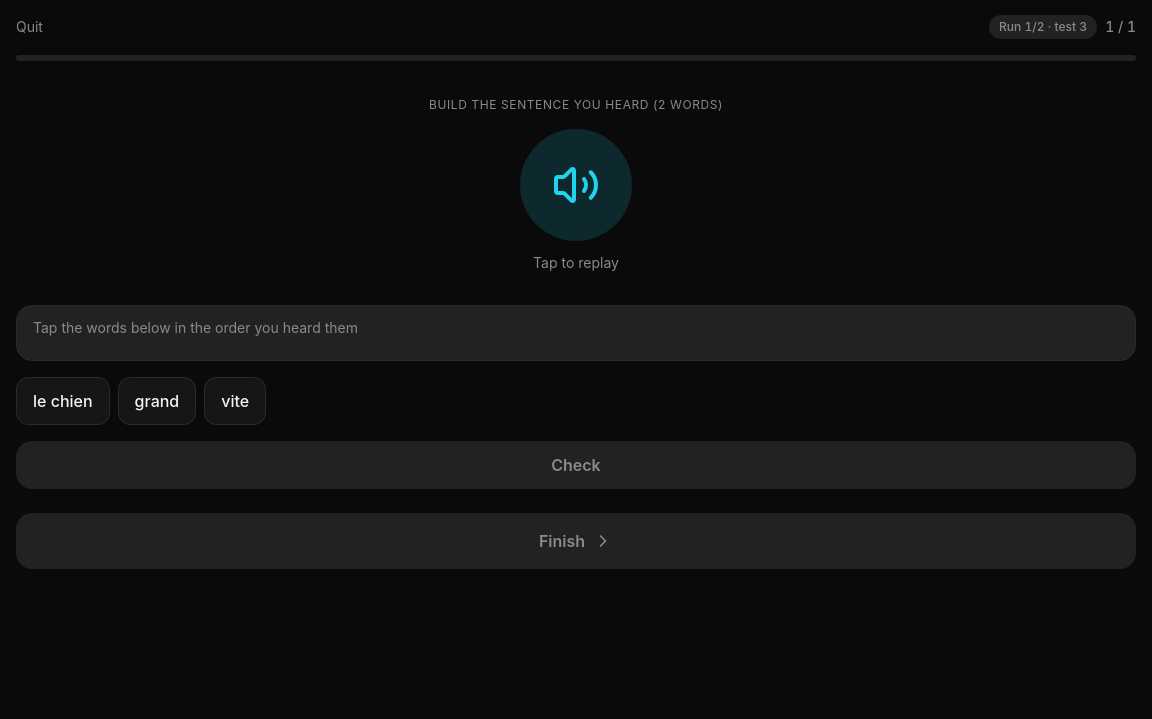
Test case: TestRunner — back-to-back run tally › carries the running total across tests and adds the finished one
Expected: the text "Run 1/2 · test 3" is shown, x1=989 y1=15 x2=1097 y2=39
Click the button "le chien" at (63, 401), box x1=16 y1=377 x2=110 y2=425
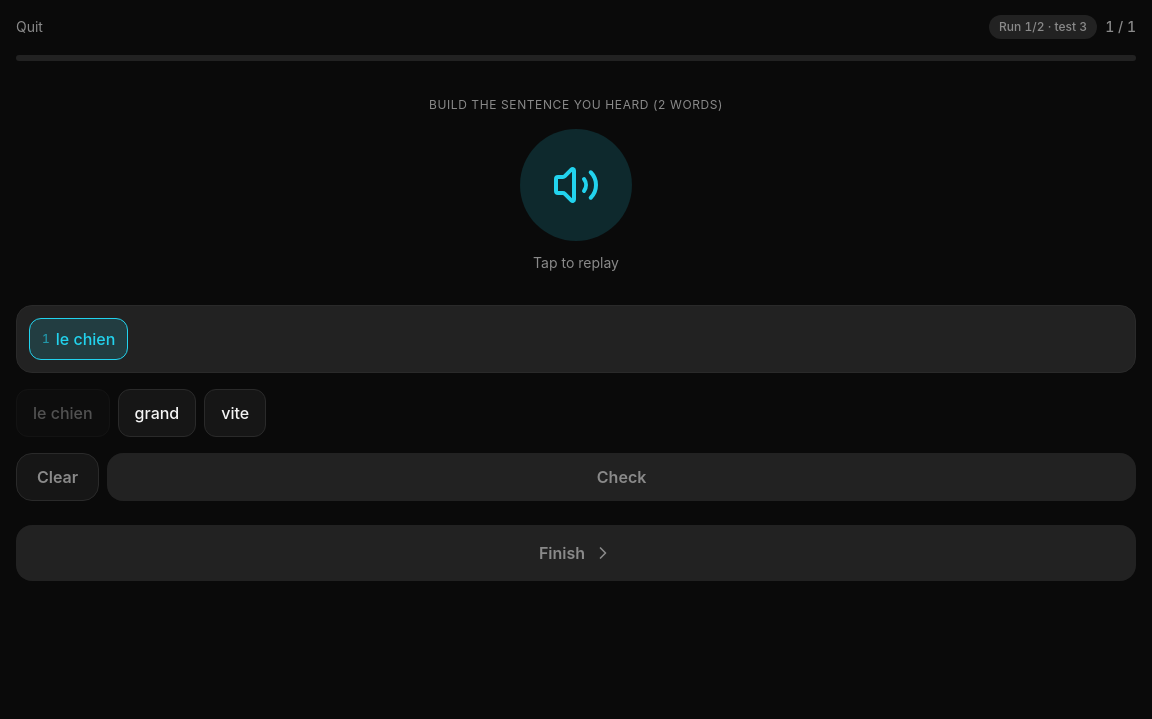
Click the button "grand" at (157, 413), box x1=118 y1=389 x2=196 y2=437
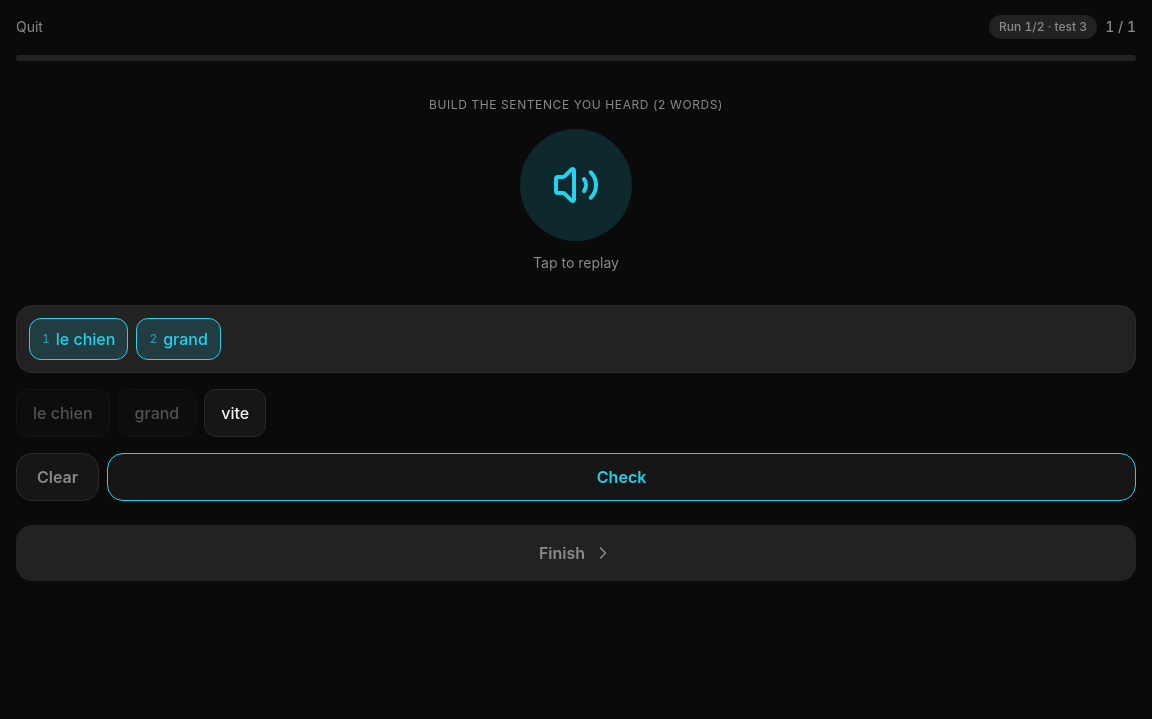
Click the button "Check" at (622, 477), box x1=107 y1=453 x2=1136 y2=501
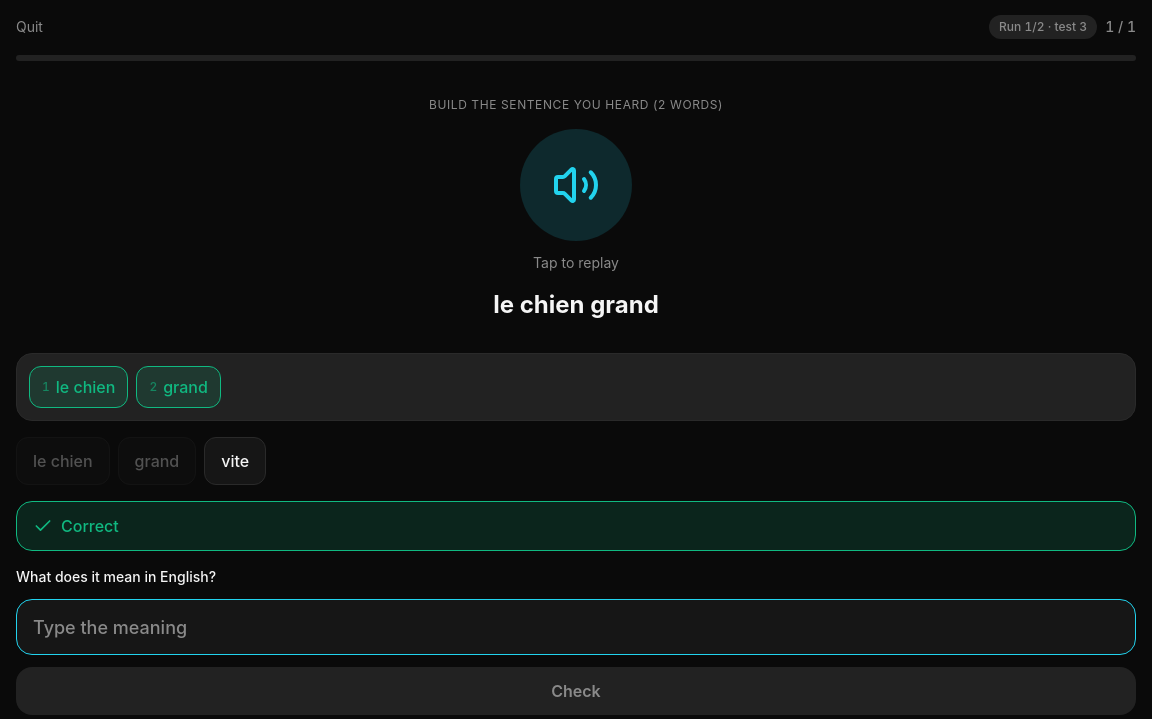
Type "the big dog" into the field with placeholder "Type the meaning" at (576, 627), box x1=16 y1=599 x2=1136 y2=655
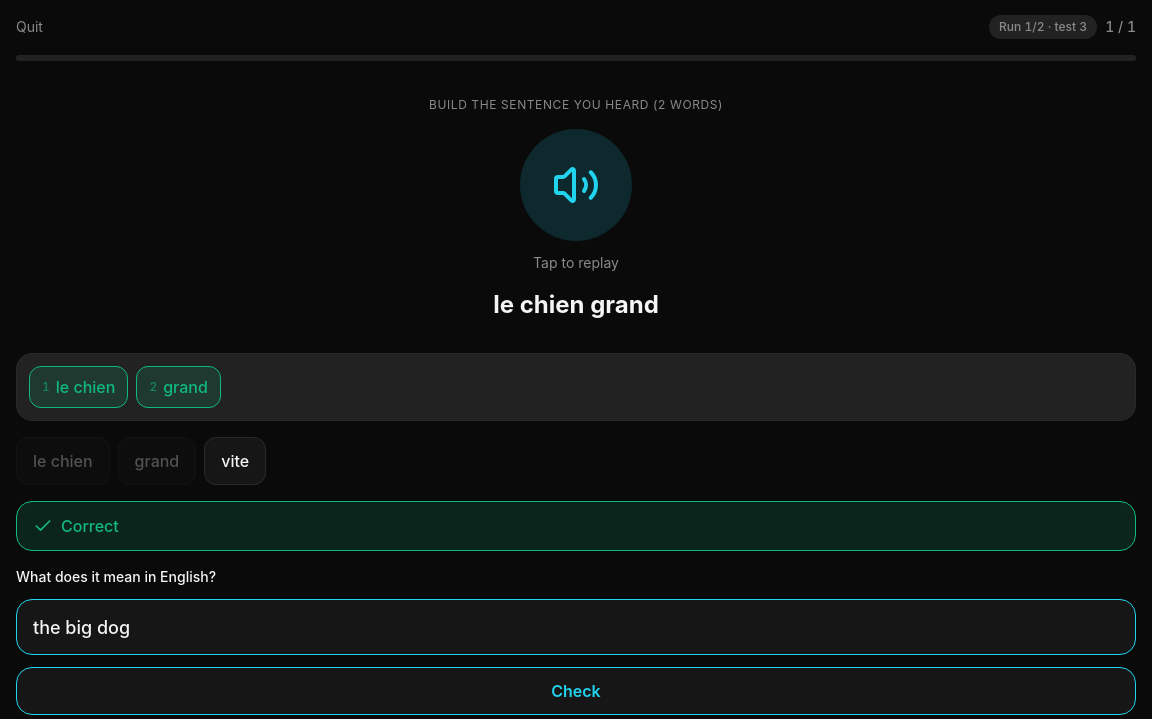
Click the button "Check" at (576, 691), box x1=16 y1=667 x2=1136 y2=715
(page scrolled)
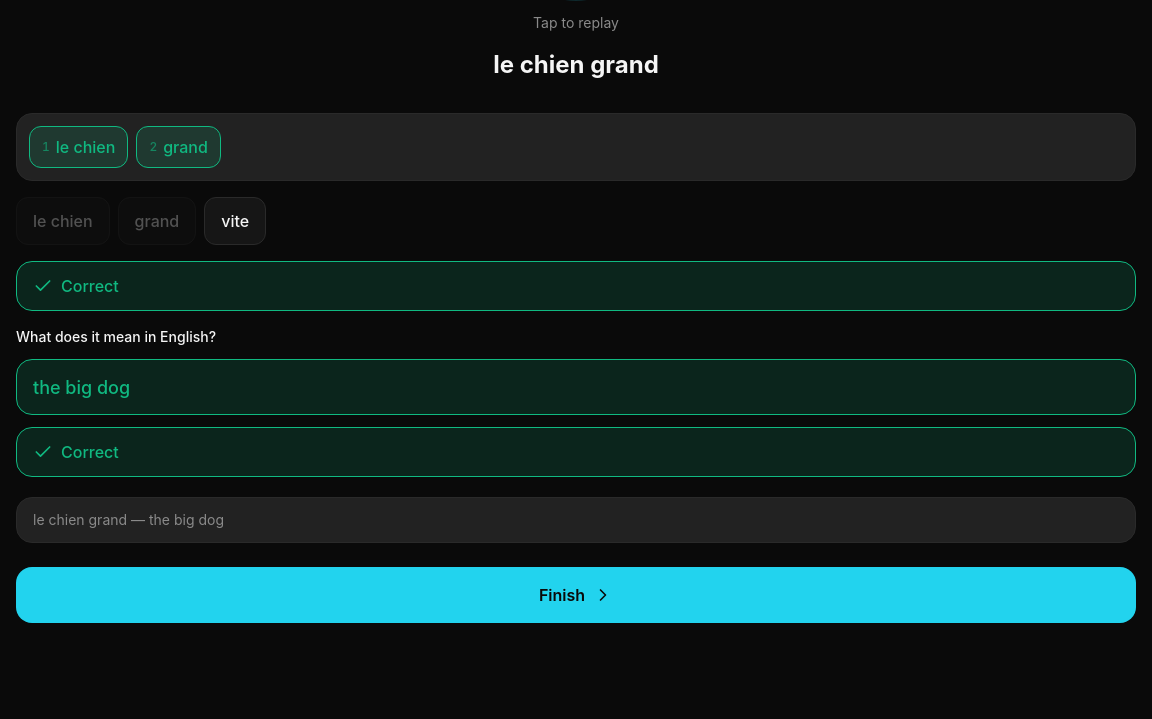
Click the button "Finish" at (576, 595), box x1=16 y1=567 x2=1136 y2=623
(page scrolled)
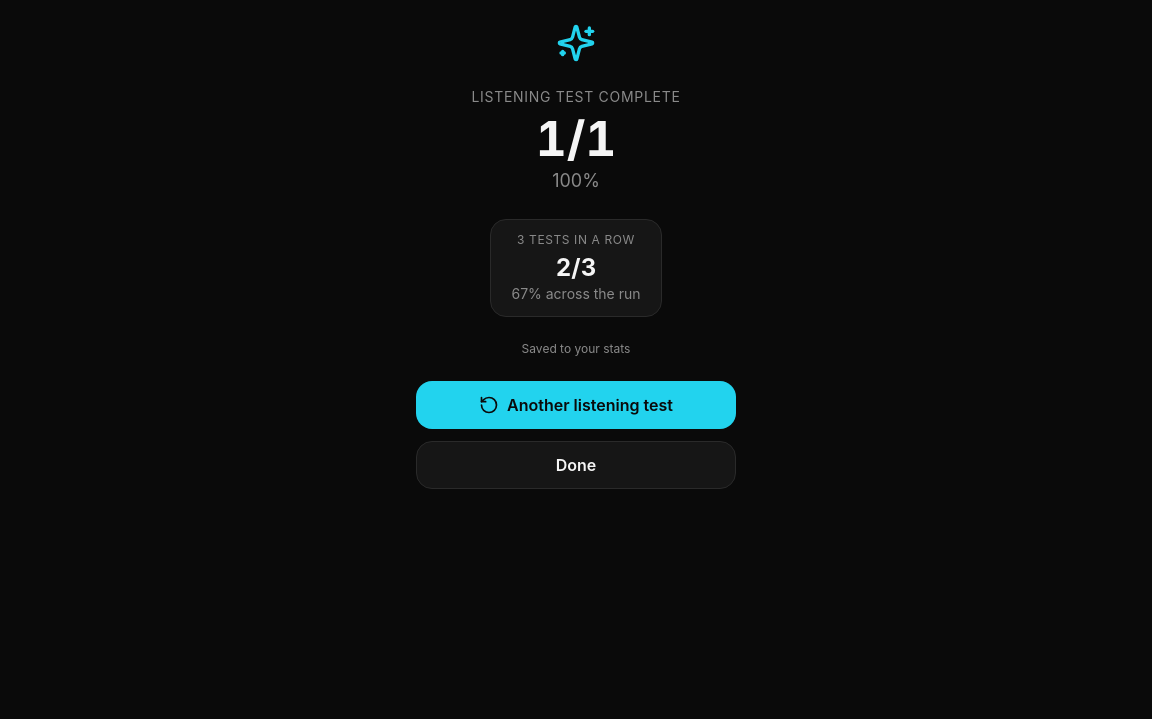
Now the text "2/3" is shown, box x1=556 y1=253 x2=596 y2=282
Now the text "3 tests in a row" is shown, box x1=512 y1=232 x2=641 y2=248
